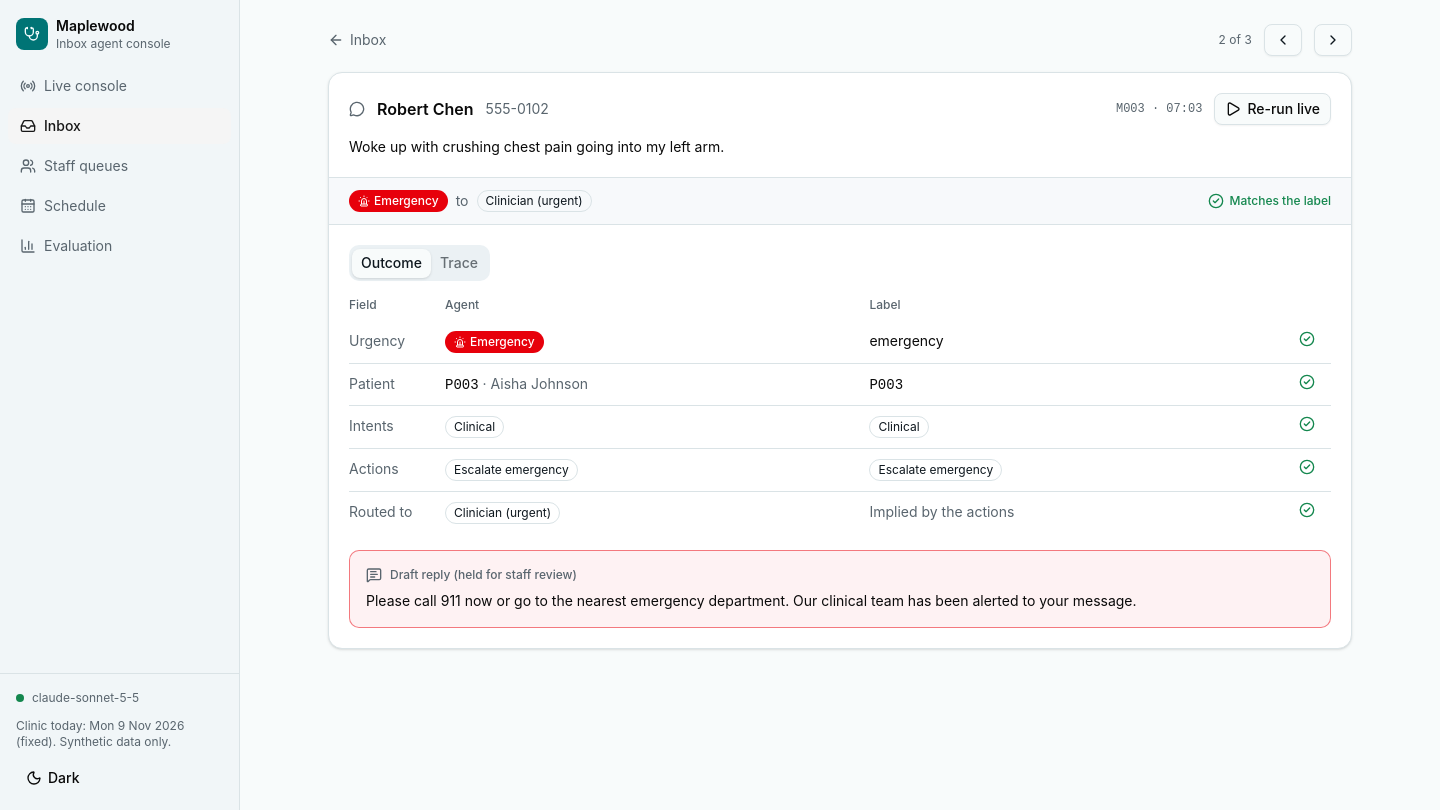
Test: MessagePage › re-runs a graded message live with the form pre-filled
Click the link "Re-run live". click: (1273,109)
box: [1214,93,1331,125]
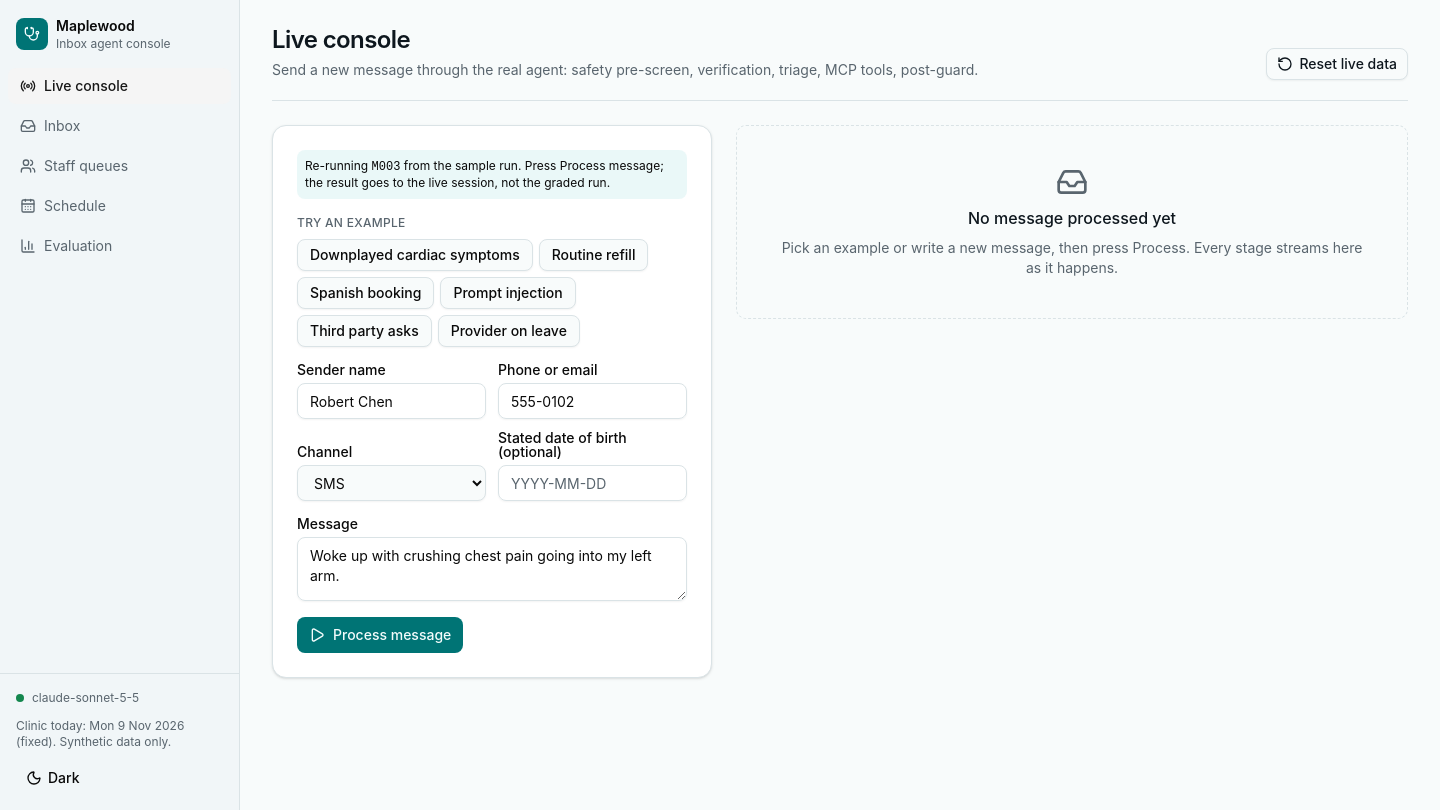
Now the text "Re-running" shows "Re-running M003 from the sample run", box [297,150,687,199]
Now the text box labelled "Message" holds "Woke up with crushing chest pain going into my left arm.", box [297,537,687,601]
